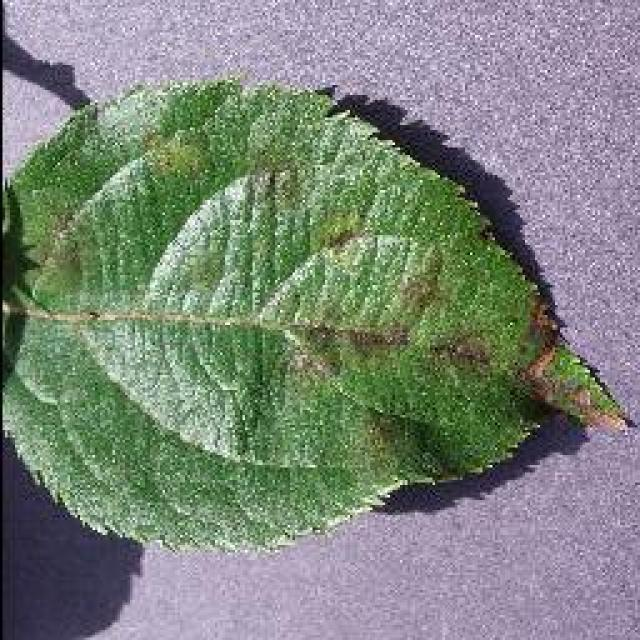apple scab disease: (0, 72, 632, 555)
